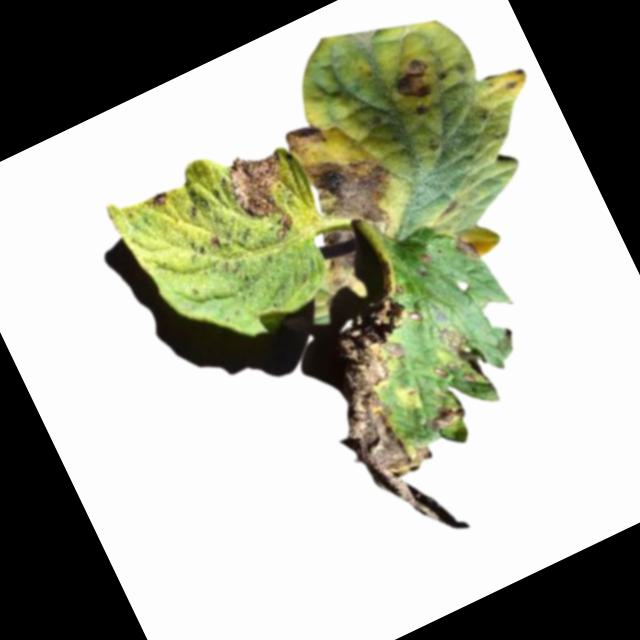Early_blight: (302, 289, 508, 558), (219, 141, 312, 250), (306, 143, 407, 243), (427, 318, 494, 394), (312, 221, 373, 288), (385, 52, 439, 107), (280, 114, 333, 161), (452, 228, 486, 266), (144, 187, 175, 214), (413, 101, 433, 121)
